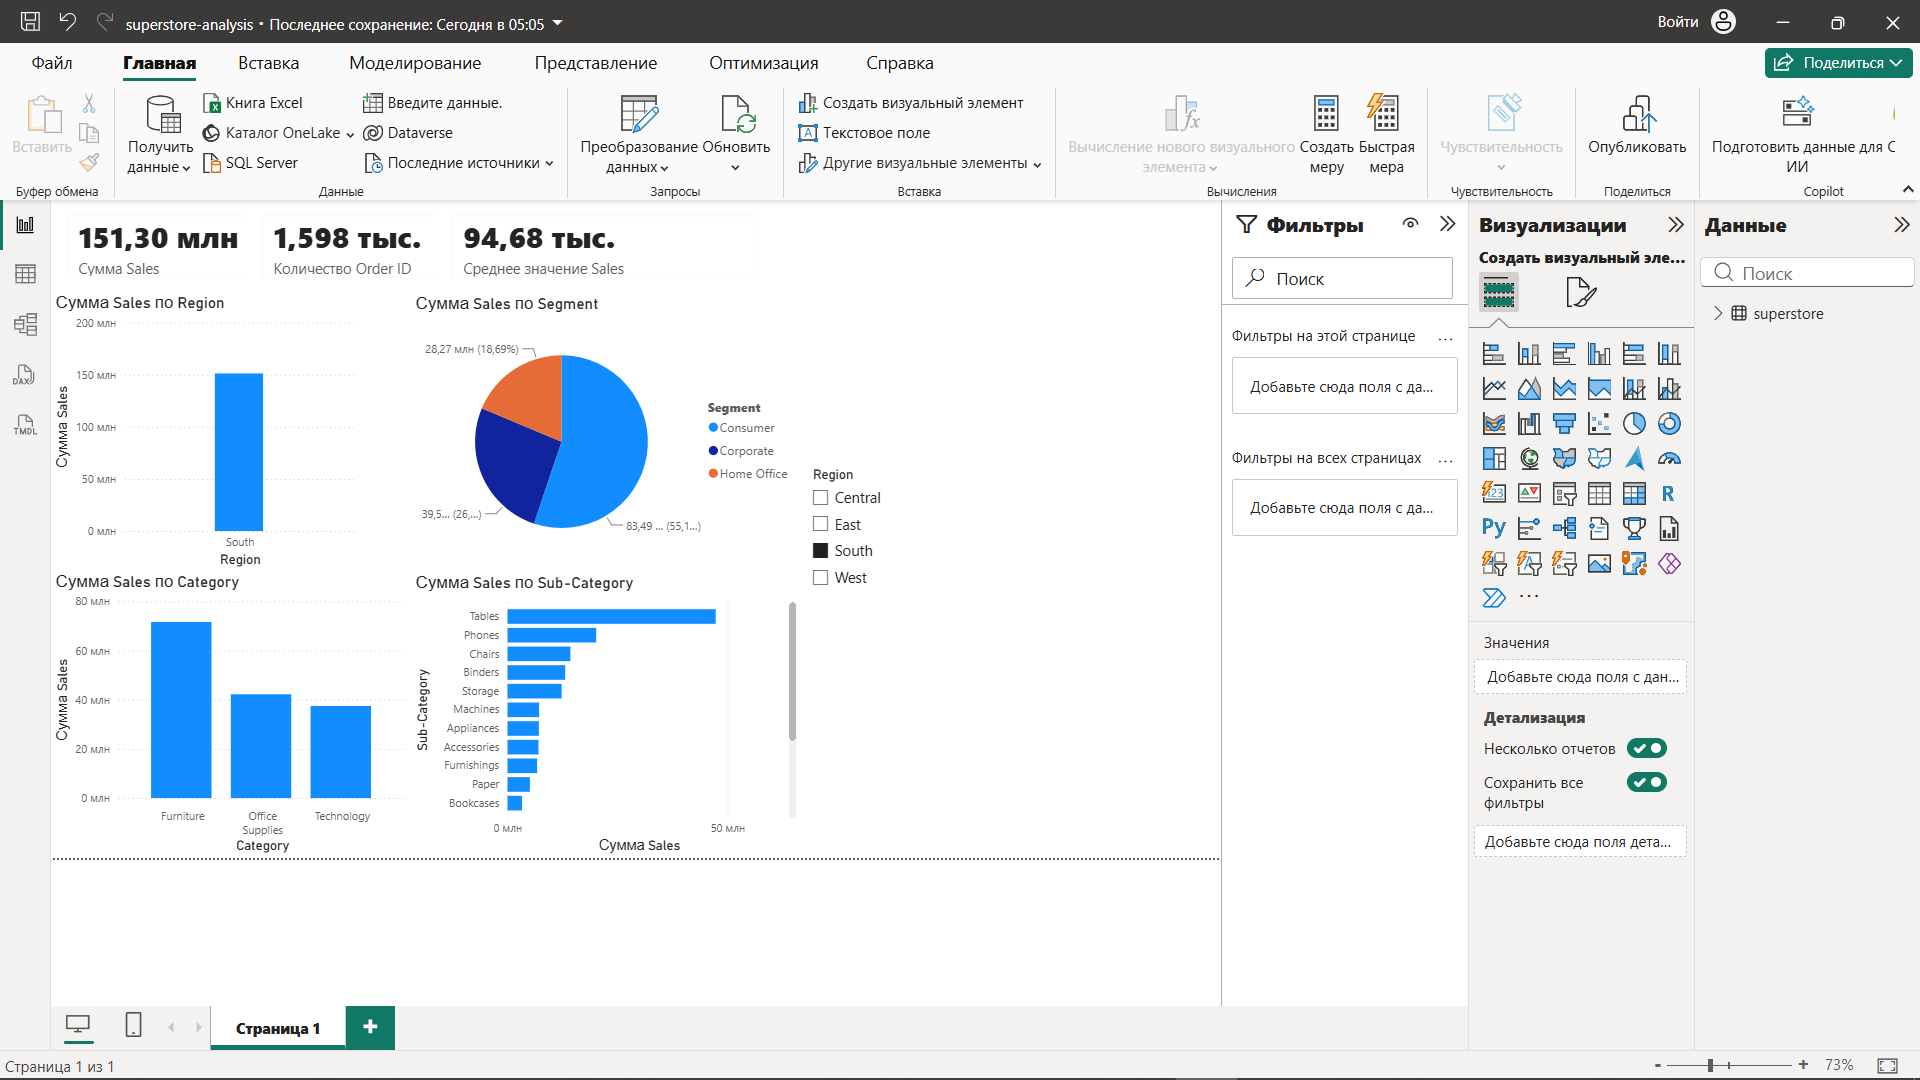

What the dashboard file says about the page in this screenshot:
{"tool":"powerbi","page":{"name":"Страница 1","canvas":[1280,720],"ordinal":0},"visuals":[{"type":"clusteredColumnChart","fields":{"Category":["superstore.Region"],"Y":["Sum(superstore.Sales)"]},"box":[0,101.2,337.9,305],"z":0},{"type":"clusteredColumnChart","fields":{"Category":["superstore.Category"],"Y":["Sum(superstore.Sales)"]},"box":[0,406.2,393.9,313.2],"z":1000},{"type":"pieChart","fields":{"Category":["superstore.Segment"],"Y":["Sum(superstore.Sales)"]},"box":[393.9,102.6,426.8,305],"z":2000},{"type":"slicer","fields":{"Values":["superstore.Region"]},"box":[1073.7,139.5,97.1,145],"z":3000},{"type":"cardVisual","fields":{"Data":["Sum(superstore.Sales)"]},"box":[0,0,370.7,101.2],"z":4000},{"type":"cardVisual","fields":{"Data":["CountNonNull(superstore.Order ID)"]},"box":[213.4,0,370.7,102.6],"z":5000},{"type":"cardVisual","fields":{"Data":["Avg(superstore.Sales)"]},"box":[421.3,0,370.7,102.6],"z":5001},{"type":"clusteredBarChart","fields":{"Category":["superstore.Sub-Category"],"Y":["Sum(superstore.Sales)"]},"box":[393.9,407.6,426.8,311.9],"z":5002}]}

Visuals, with their boxes on the page's 1280x720 design canvas (x1, y1, x2, y2). These are canvas units, not pixel positions in the 1920x1080 screenshot, which may show the page scaled, cropped or inside an application window:
clusteredColumnChart - superstore.Region x Sum(superstore.Sales): 0, 101, 338, 406
clusteredColumnChart - superstore.Category x Sum(superstore.Sales): 0, 406, 394, 719
pieChart - superstore.Segment x Sum(superstore.Sales): 394, 103, 821, 408
slicer - superstore.Region: 1074, 140, 1171, 284
cardVisual - Sum(superstore.Sales): 0, 0, 371, 101
cardVisual - CountNonNull(superstore.Order ID): 213, 0, 584, 103
cardVisual - Avg(superstore.Sales): 421, 0, 792, 103
clusteredBarChart - superstore.Sub-Category x Sum(superstore.Sales): 394, 408, 821, 720
